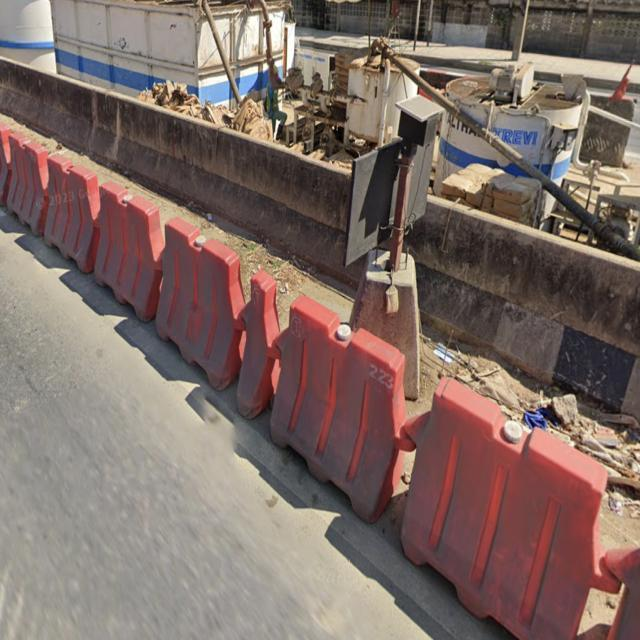fallen_object: (393, 354, 640, 640), (257, 272, 401, 514), (145, 199, 237, 402), (203, 250, 294, 433), (79, 169, 178, 324), (32, 137, 98, 289), (0, 116, 50, 240)
